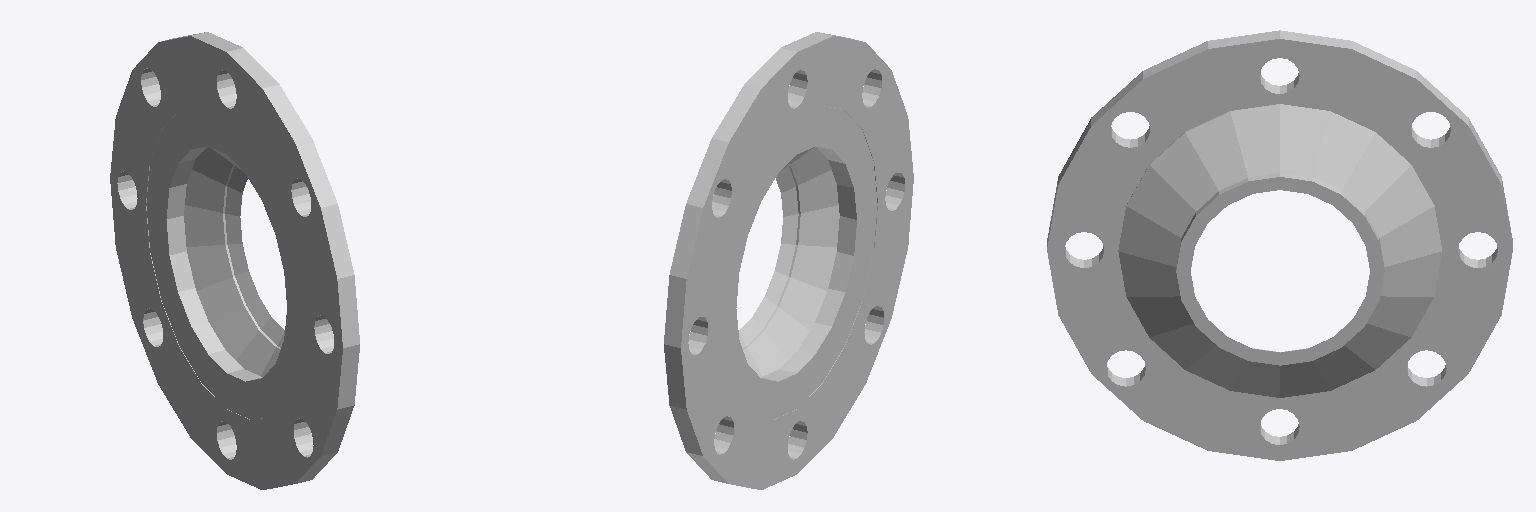
The model's file is flange_wn.obj.
The picture shows the model from 3 angles: view 1: azimuth 30°, elevation 25°; view 2: azimuth 150°, elevation 25°; view 3: azimuth 270°, elevation 25°; orthographic projection.
Visible parts, largest first — view 1: __.1, __.2, __.3, __.7, __.5, __.4, __.6, __; view 2: __.1, __.4, __.6, __.5, __.7, __.3, __.2, __; view 3: __.1.
Part boxes in pixels (x1,y1,x2,y2): __.1: (110, 32, 359, 489); __.2: (217, 421, 236, 459); __.3: (217, 70, 236, 108); __.7: (291, 178, 310, 216); __.5: (143, 308, 162, 346); __.4: (141, 68, 160, 106); __.6: (294, 418, 313, 457); __: (117, 171, 137, 209); __.1: (664, 32, 913, 489); __.4: (712, 179, 731, 217); __.6: (864, 306, 883, 344); __.5: (714, 416, 733, 454); __.7: (862, 69, 881, 107); __.3: (788, 70, 807, 108); __.2: (788, 421, 807, 459); __: (688, 316, 707, 354); __.1: (1047, 30, 1512, 460).
Size of the model in its own units: 30.47 by 209 by 209.